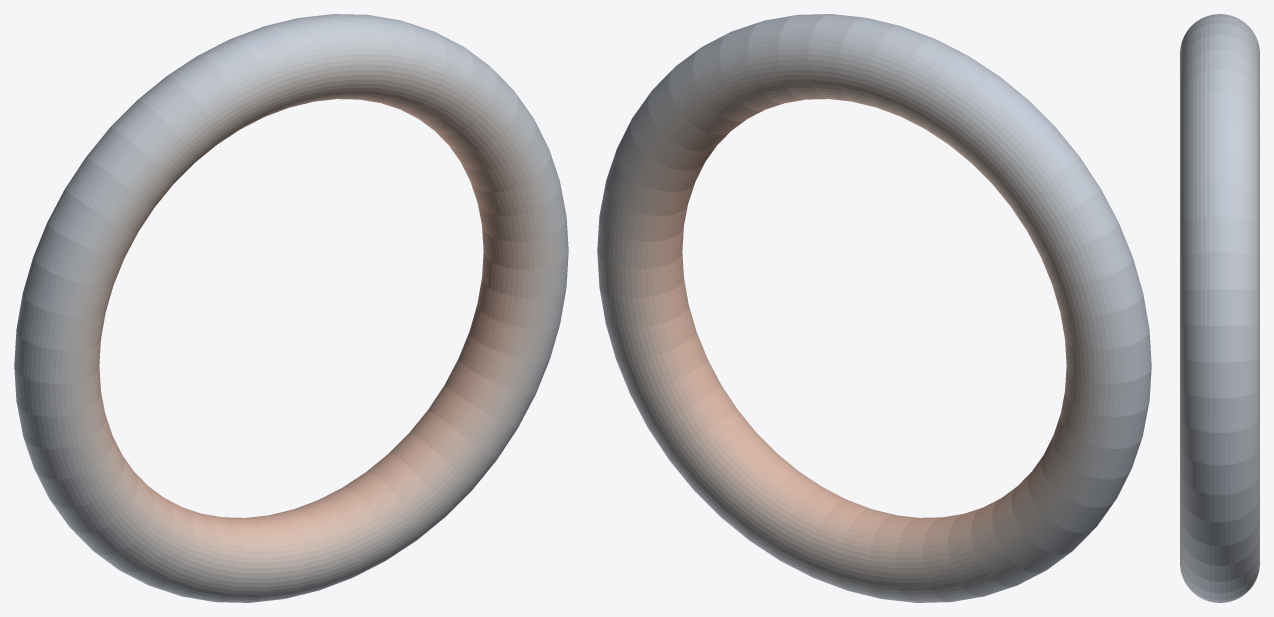
3 views of the same model, side by side, from view 1: azimuth 30°, elevation 25°; view 2: azimuth 150°, elevation 25°; view 3: azimuth 270°, elevation 25° (orthographic). The views are drawn at different scales.
Visible parts, largest first — view 1: world; view 2: world; view 3: world.
Part boxes in pixels (x1,y1,x2,y2): world: (14, 14, 568, 602); world: (597, 14, 1151, 602); world: (1180, 14, 1259, 602).
Size of the model in its own units: 32.4 by 32.34 by 4.39.
